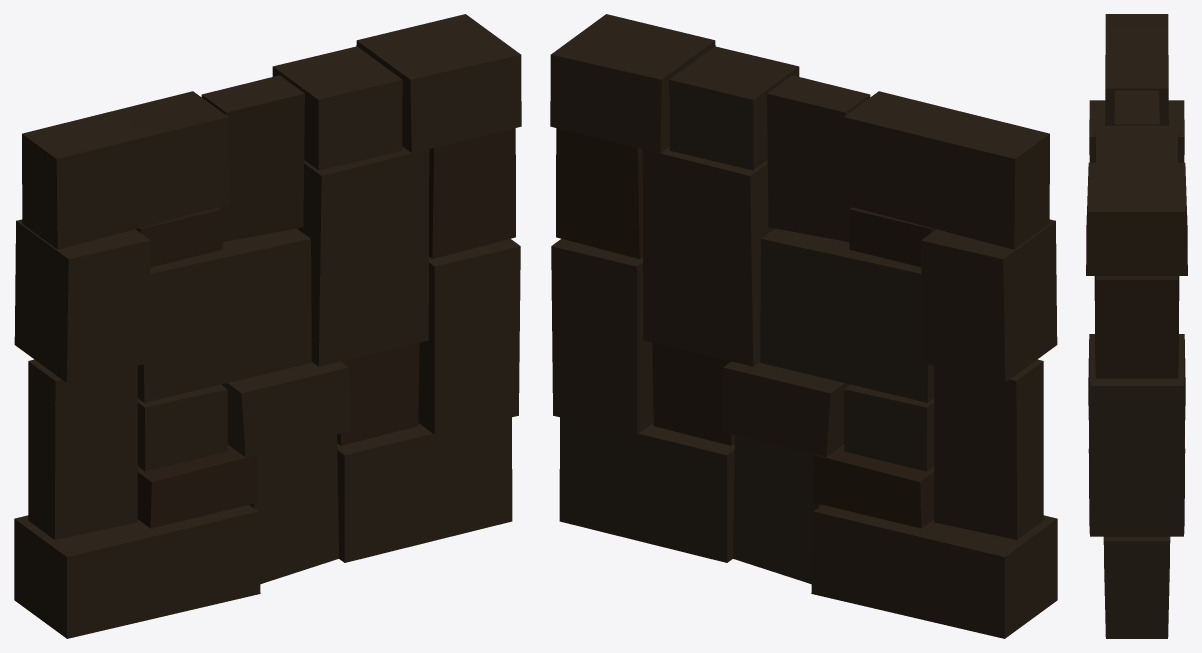
File: Wall_ModularLOD.obj
3 views of the same model, side by side, from view 1: azimuth 30°, elevation 25°; view 2: azimuth 150°, elevation 25°; view 3: azimuth 270°, elevation 25° (orthographic). The views are drawn at different scales.
Parts seen in each view (by area): view 1: Wall_Modular_Cube.005; view 2: Wall_Modular_Cube.005; view 3: Wall_Modular_Cube.005.
Boxes of the visible parts, x1,y1,x2,y2 form: Wall_Modular_Cube.005: [14, 14, 521, 638]; Wall_Modular_Cube.005: [550, 14, 1057, 638]; Wall_Modular_Cube.005: [1086, 14, 1187, 638].
Size of the model in its own units: 1.99 by 2.01 by 0.4285.
